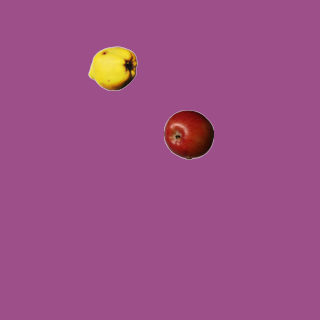Apple Braeburn: (163, 109, 213, 159)
Quince: (87, 43, 137, 93)
